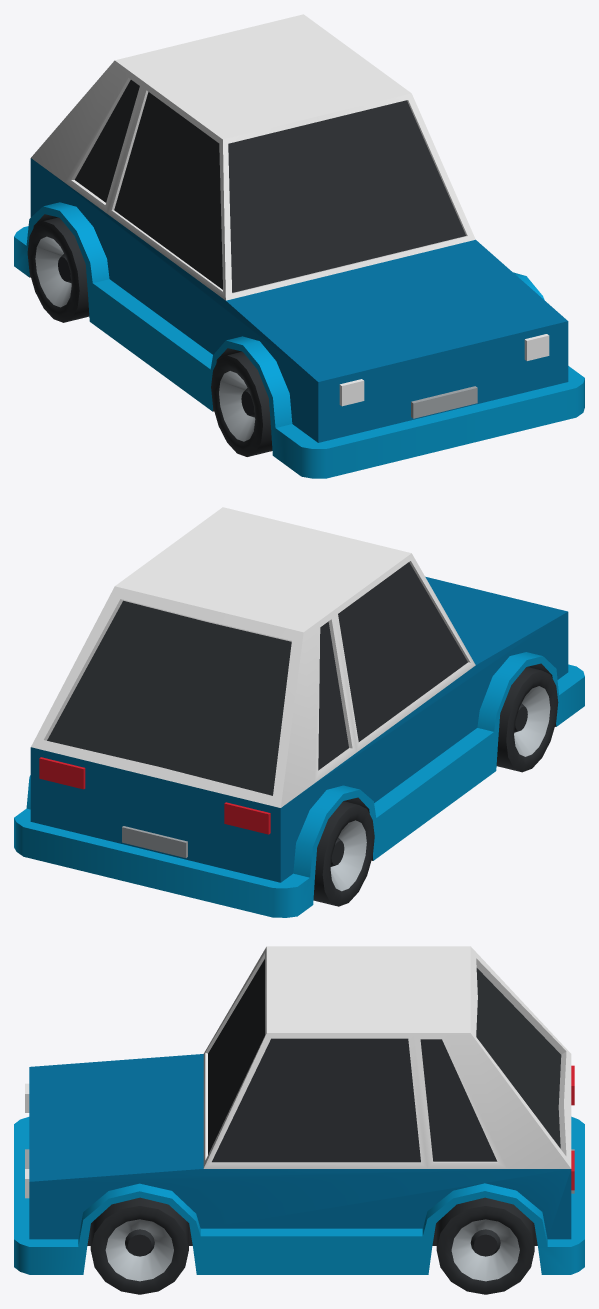
The model's file is Race Royale.fbx_Car2.fbx.
3 views of the same model, one above another, from view 1: azimuth 30°, elevation 25°; view 2: azimuth 150°, elevation 25°; view 3: azimuth 270°, elevation 25° (orthographic). The views are drawn at different scales.
Visible parts, largest first — view 1: Car 2, Car2Wheel4, Car2Wheel2; view 2: Car 2, Car2Wheel2, Car2Wheel4; view 3: Car 2, Car2Wheel3, Car2Wheel1.
Boxes of the visible parts, x1=… form: Car 2: x1=14, y1=14, x2=584, y2=478; Car2Wheel4: x1=27, y1=217, x2=89, y2=322; Car2Wheel2: x1=211, y1=351, x2=272, y2=456; Car 2: x1=14, y1=507, x2=584, y2=917; Car2Wheel2: x1=496, y1=667, x2=558, y2=772; Car2Wheel4: x1=313, y1=801, x2=374, y2=906; Car 2: x1=14, y1=946, x2=584, y2=1274; Car2Wheel3: x1=436, y1=1197, x2=534, y2=1294; Car2Wheel1: x1=90, y1=1197, x2=188, y2=1294.
Bounding box in the file's own units: 289 × 232 × 507.
